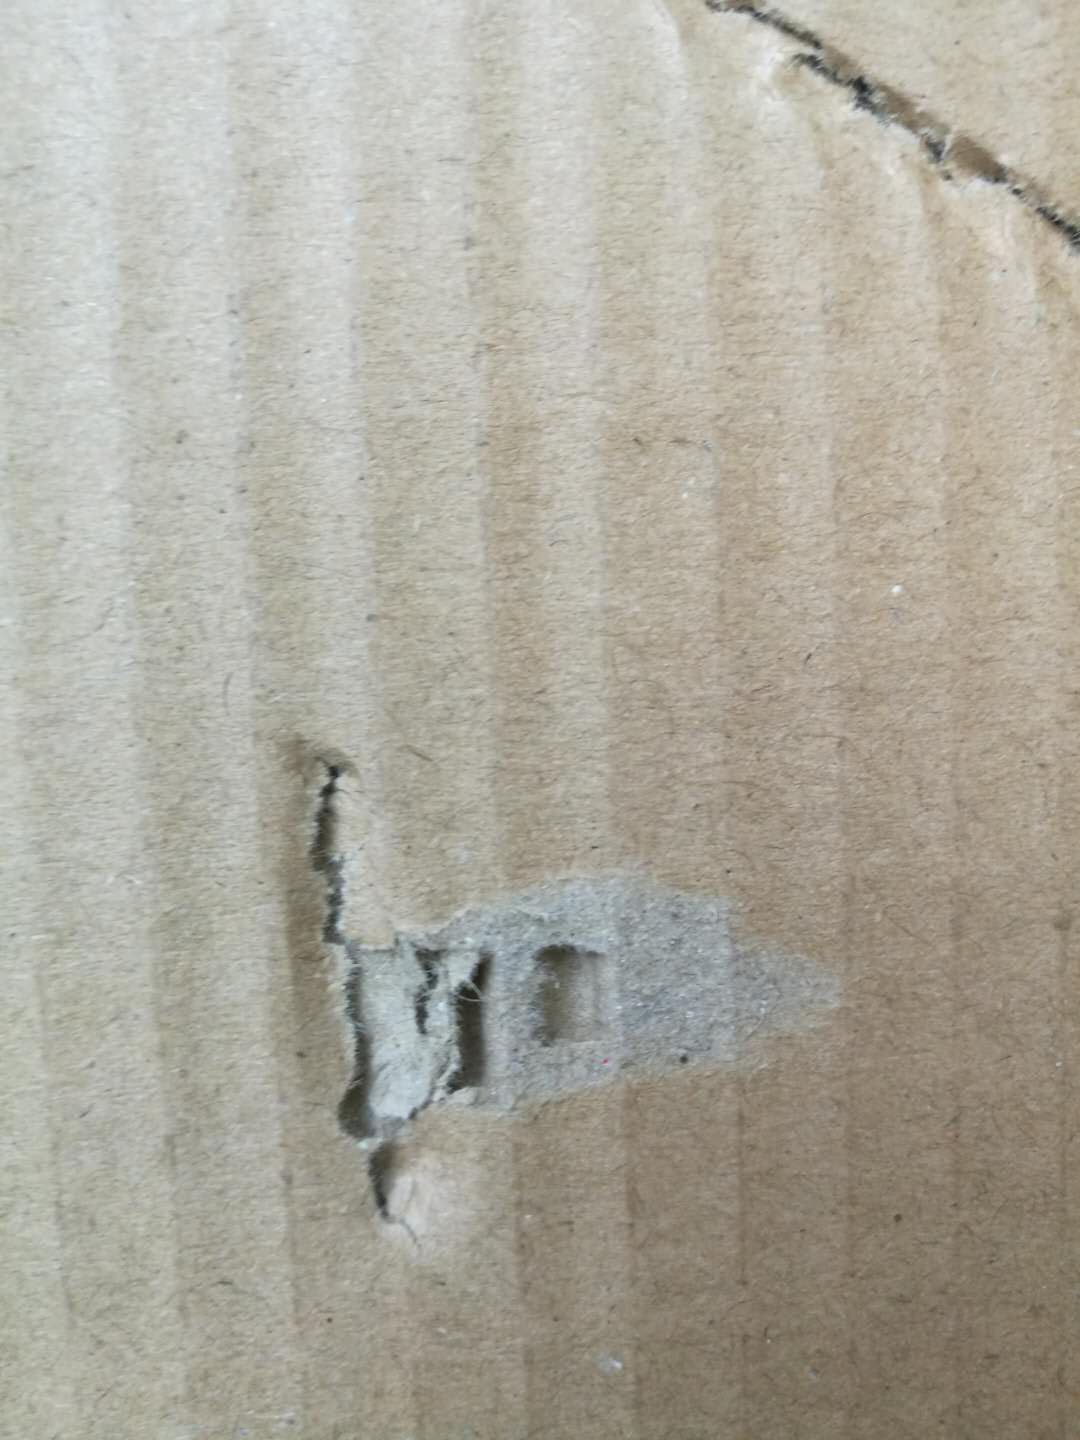defect: (219, 693, 903, 1295), (655, 1, 1080, 311)
